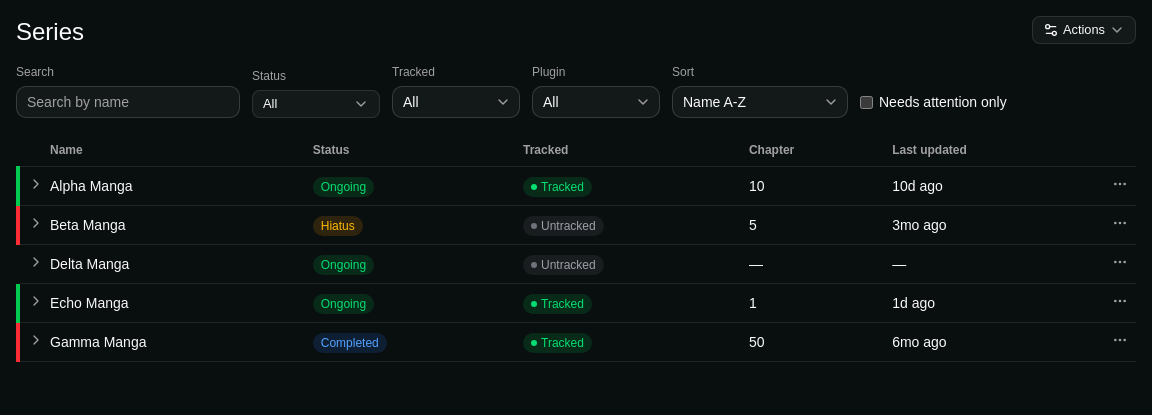
SeriesPage › cleans orphaned files from the actions menu
Check: the link "Alpha Manga" is shown, box x1=50 y1=178 x2=132 y2=194
Click the button "Actions".
click(1084, 30)  # box x1=1032 y1=16 x2=1136 y2=44
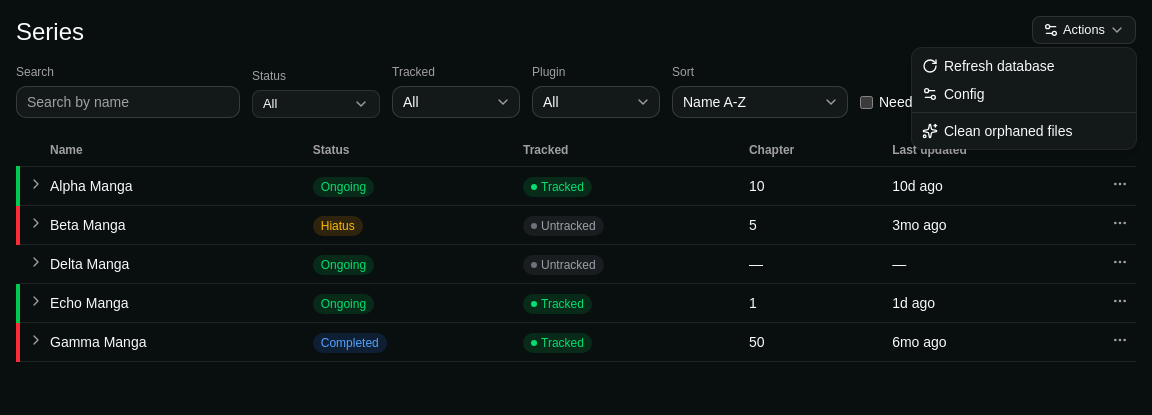
Click the menu item "Clean orphaned files".
click(997, 131)  # box x1=922 y1=123 x2=1072 y2=139
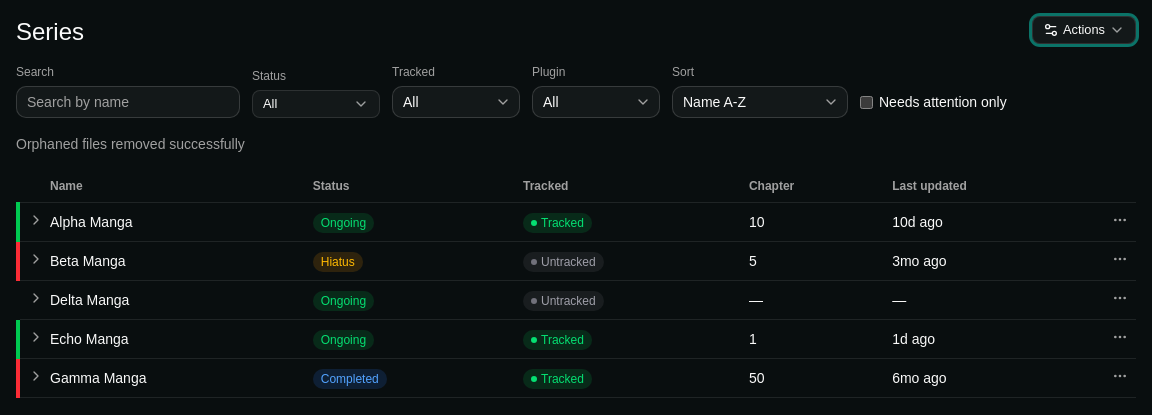
Check: the text "Orphaned files removed successfully" is shown, box x1=16 y1=136 x2=245 y2=152
